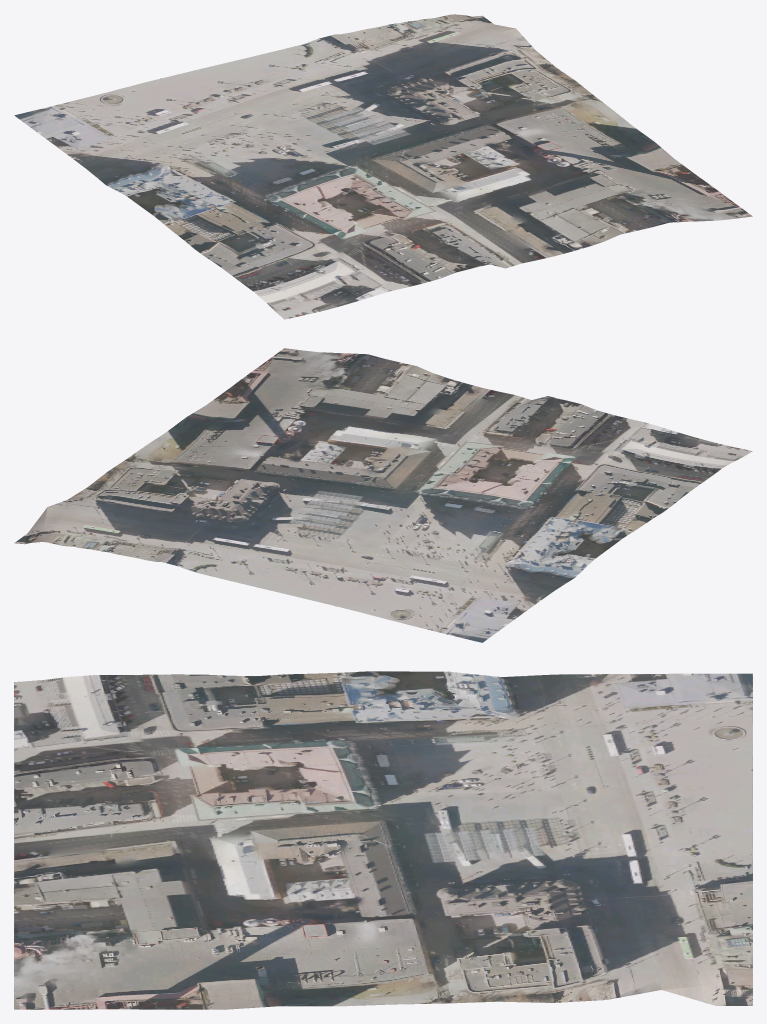
Rendered from CM_Terrain_24487182_6820818.fbx.
3 renders of one model, top to bottom at view 1: azimuth 30°, elevation 25°; view 2: azimuth 150°, elevation 25°; view 3: azimuth 270°, elevation 25°, orthographic. The views are drawn at different scales.
Visible parts, largest first — view 1: CM_Terrain_24487182_6820818_LOD0; view 2: CM_Terrain_24487182_6820818_LOD0; view 3: CM_Terrain_24487182_6820818_LOD0.
Boxes of the visible parts, x1=… form: CM_Terrain_24487182_6820818_LOD0: x1=14, y1=14, x2=752, y2=319; CM_Terrain_24487182_6820818_LOD0: x1=14, y1=348, x2=752, y2=642; CM_Terrain_24487182_6820818_LOD0: x1=14, y1=671, x2=752, y2=1009.
Size of what is drawn, in the model's own units: 205 by 8.58 by 205.
